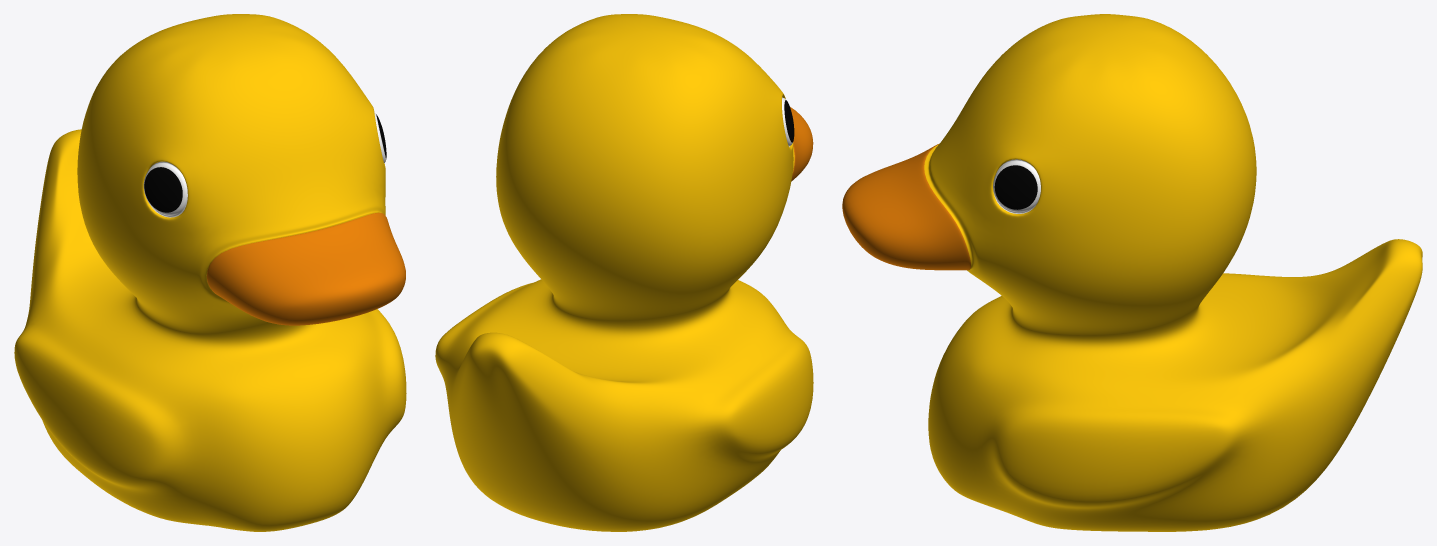
Rendered from Explosif_Duck.fbx.
3 renders of one model, left to right at view 1: azimuth 30°, elevation 25°; view 2: azimuth 150°, elevation 25°; view 3: azimuth 270°, elevation 25°, orthographic. The views are drawn at different scales.
Parts seen in each view (by area): view 1: Duck; view 2: Duck; view 3: Duck.
Boxes of the visible parts, box(x1,y1,x2,y2) form: Duck: box(14, 14, 406, 531); Duck: box(435, 14, 813, 531); Duck: box(842, 14, 1422, 531).
Size of the model in its own units: 75.68 by 103 by 119.
